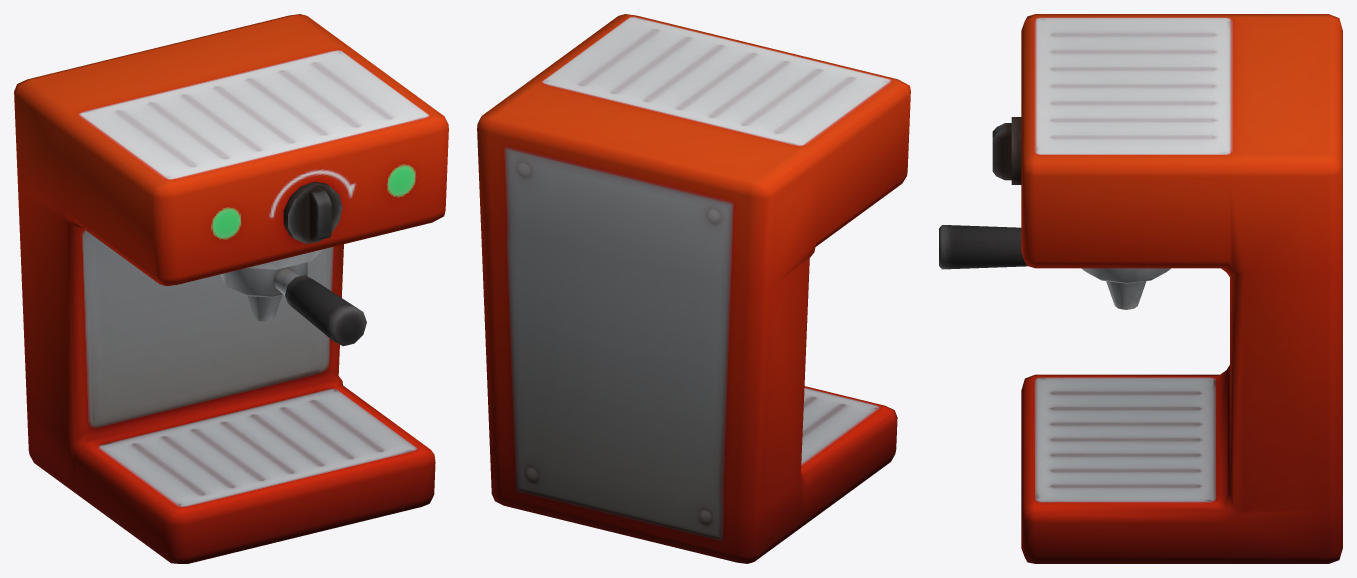
The model's file is CafeCoffeeMachine01.FBX.
The picture shows the model from 3 angles, left to right: view 1: azimuth 30°, elevation 25°; view 2: azimuth 150°, elevation 25°; view 3: azimuth 270°, elevation 25°; orthographic projection. The views are drawn at different scales.
Visible parts, largest first — view 1: CafeCoffeeMachine01; view 2: CafeCoffeeMachine01; view 3: CafeCoffeeMachine01.
Part boxes in pixels (x1,y1,x2,y2): CafeCoffeeMachine01: (14, 14, 448, 563); CafeCoffeeMachine01: (477, 14, 910, 563); CafeCoffeeMachine01: (939, 14, 1342, 563).
Size of what is drawn, in the model's own units: 0.4523 by 0.5625 by 0.4978.
